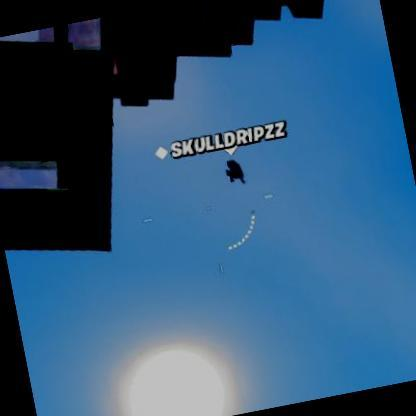person: (219, 152, 247, 192)
